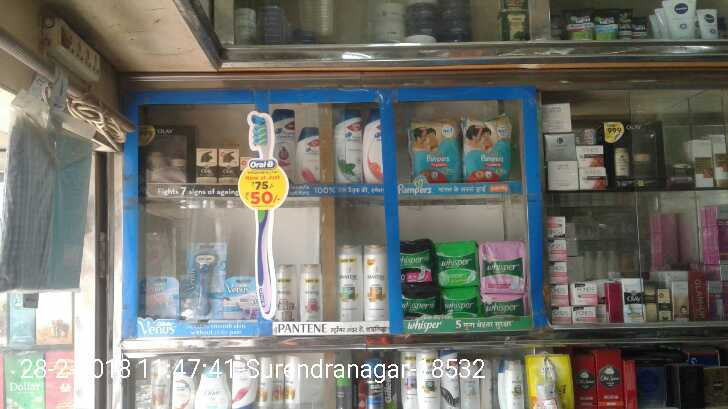venus: (188, 241, 225, 318), (138, 276, 186, 318), (225, 277, 255, 318)
